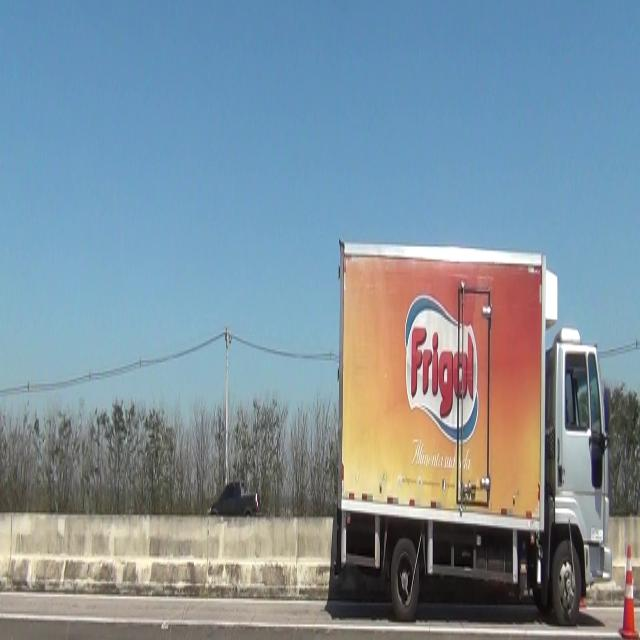-axle: (392, 531, 421, 623), (554, 532, 580, 632)
